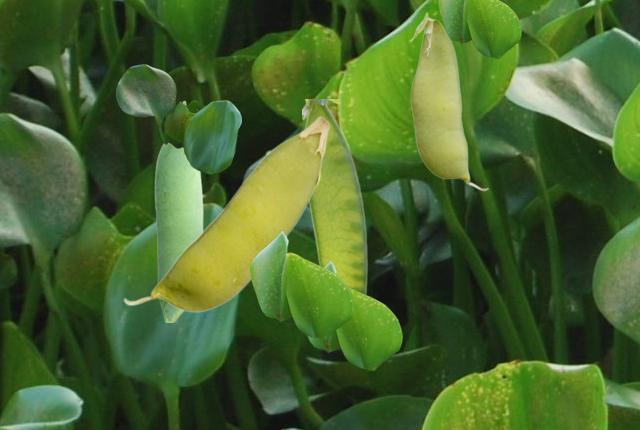pea: (123, 116, 329, 311), (409, 12, 488, 190), (302, 99, 369, 294), (154, 100, 202, 321)
